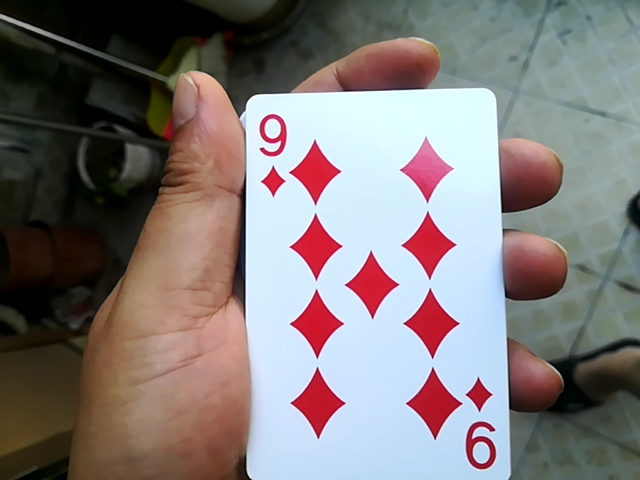fk 9: (207, 80, 491, 477)
